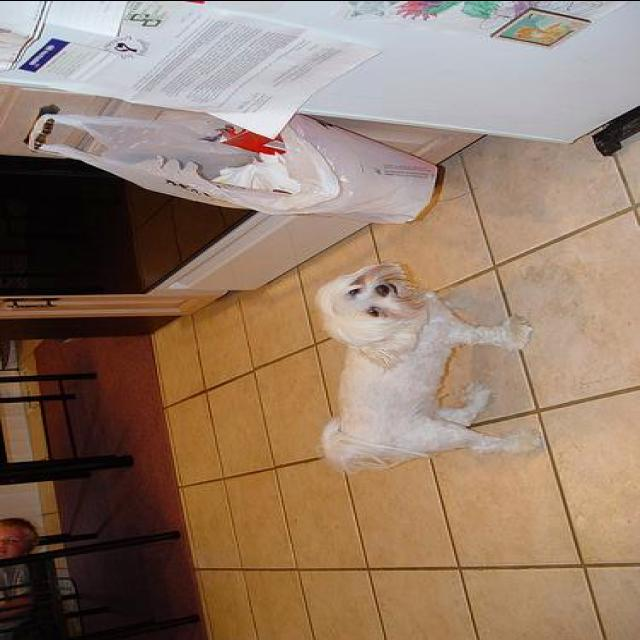maltese_dog: (314, 259, 551, 467)
